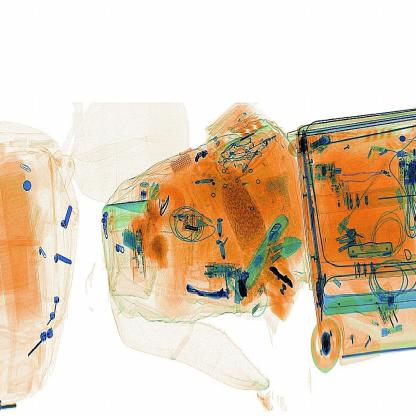pliers: (175, 196, 208, 270)
